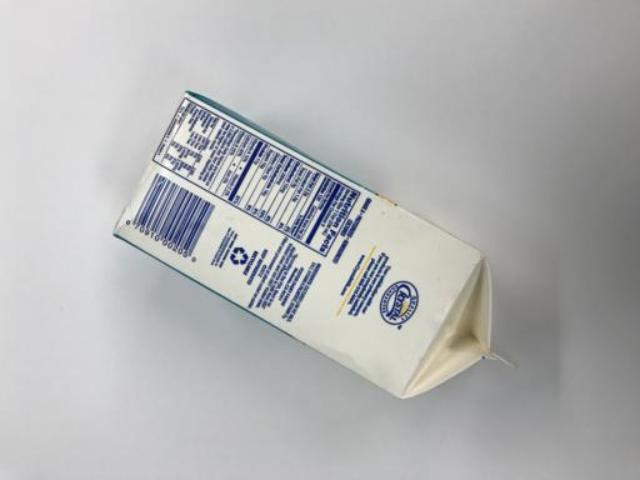cardboard paper: (114, 91, 489, 395)
